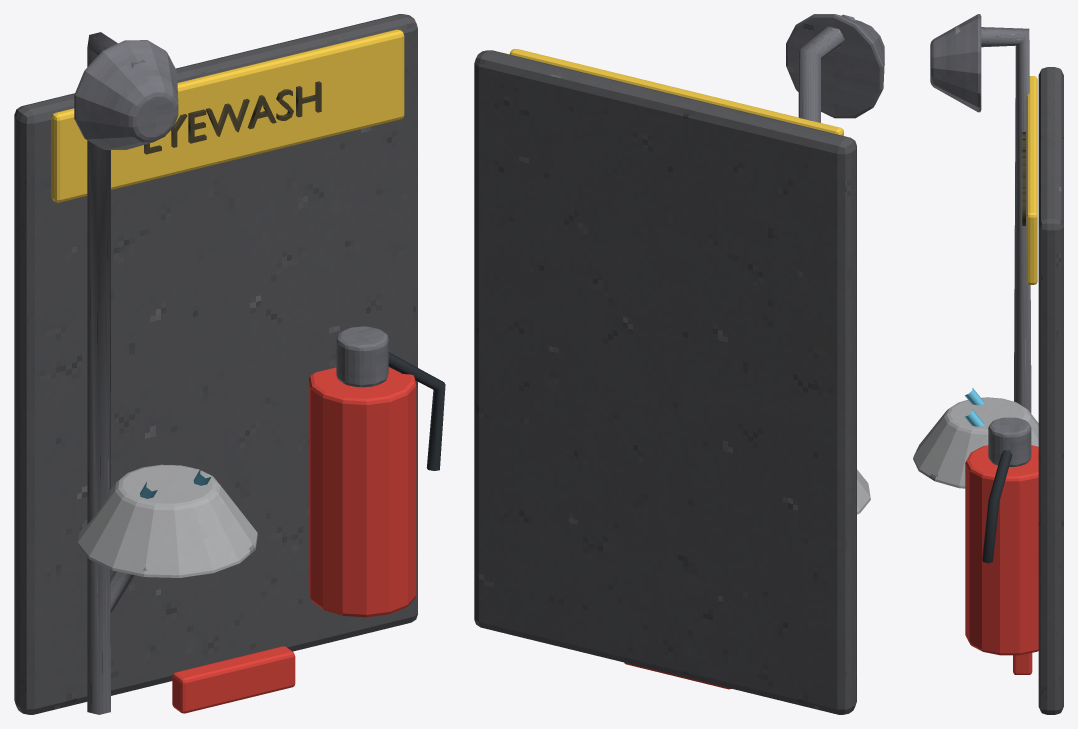
File: decor_chem_emergency_station.glb
3 renders of one model, left to right at view 1: azimuth 30°, elevation 25°; view 2: azimuth 150°, elevation 25°; view 3: azimuth 270°, elevation 25°, orthographic. The views are drawn at different scales.
Visible parts, largest first — view 1: DEC_ChemEmergencyStation__Back_Plate, DEC_ChemEmergencyStation__Extinguisher_Body, DEC_ChemEmergencyStation__Hazard_Header, DEC_ChemEmergencyStation__Eyewash_Bowl, DEC_ChemEmergencyStation__Shower_Riser, DEC_ChemEmergencyStation__Shower_Head, DEC_ChemEmergencyStation__Pull_Handle, DEC_ChemEmergencyStation__Extinguisher_Neck, DEC_ChemEmergencyStation__Hazard_Text, DEC_ChemEmergencyStation__Extinguisher_Hose; view 2: DEC_ChemEmergencyStation__Back_Plate, DEC_ChemEmergencyStation__Shower_Head, DEC_ChemEmergencyStation__Hazard_Header, DEC_ChemEmergencyStation__Shower_Riser; view 3: DEC_ChemEmergencyStation__Back_Plate, DEC_ChemEmergencyStation__Extinguisher_Body, DEC_ChemEmergencyStation__Shower_Riser, DEC_ChemEmergencyStation__Eyewash_Bowl, DEC_ChemEmergencyStation__Shower_Head, DEC_ChemEmergencyStation__Hazard_Header, DEC_ChemEmergencyStation__Extinguisher_Neck, DEC_ChemEmergencyStation__Extinguisher_Hose, DEC_ChemEmergencyStation__Pull_Handle, DEC_ChemEmergencyStation__Hazard_Text.
Boxes of the visible parts, x1=… form: DEC_ChemEmergencyStation__Back_Plate: x1=14, y1=14, x2=417, y2=714; DEC_ChemEmergencyStation__Extinguisher_Body: x1=308, y1=367, x2=416, y2=617; DEC_ChemEmergencyStation__Hazard_Header: x1=51, y1=29, x2=404, y2=202; DEC_ChemEmergencyStation__Eyewash_Bowl: x1=77, y1=464, x2=257, y2=577; DEC_ChemEmergencyStation__Shower_Riser: x1=87, y1=32, x2=145, y2=714; DEC_ChemEmergencyStation__Shower_Head: x1=74, y1=40, x2=178, y2=149; DEC_ChemEmergencyStation__Pull_Handle: x1=172, y1=646, x2=295, y2=713; DEC_ChemEmergencyStation__Extinguisher_Neck: x1=336, y1=326, x2=388, y2=387; DEC_ChemEmergencyStation__Hazard_Text: x1=144, y1=81, x2=321, y2=154; DEC_ChemEmergencyStation__Extinguisher_Hose: x1=388, y1=352, x2=445, y2=470; DEC_ChemEmergencyStation__Back_Plate: x1=474, y1=50, x2=856, y2=714; DEC_ChemEmergencyStation__Shower_Head: x1=786, y1=14, x2=884, y2=118; DEC_ChemEmergencyStation__Hazard_Header: x1=509, y1=49, x2=843, y2=135; DEC_ChemEmergencyStation__Shower_Riser: x1=798, y1=14, x2=855, y2=122; DEC_ChemEmergencyStation__Back_Plate: x1=1038, y1=67, x2=1063, y2=714; DEC_ChemEmergencyStation__Extinguisher_Body: x1=965, y1=445, x2=1038, y2=655; DEC_ChemEmergencyStation__Shower_Riser: x1=955, y1=26, x2=1031, y2=413; DEC_ChemEmergencyStation__Eyewash_Bowl: x1=913, y1=397, x2=1038, y2=488; DEC_ChemEmergencyStation__Shower_Head: x1=930, y1=14, x2=981, y2=112; DEC_ChemEmergencyStation__Hazard_Header: x1=1026, y1=76, x2=1037, y2=284; DEC_ChemEmergencyStation__Extinguisher_Neck: x1=988, y1=417, x2=1031, y2=466; DEC_ChemEmergencyStation__Extinguisher_Hose: x1=982, y1=450, x2=1012, y2=563; DEC_ChemEmergencyStation__Pull_Handle: x1=1013, y1=653, x2=1032, y2=674; DEC_ChemEmergencyStation__Hazard_Text: x1=1022, y1=132, x2=1025, y2=225.
Bounding box in the file's own units: 1.18 × 2.01 × 0.4744.
8 materials, 3 textured.
